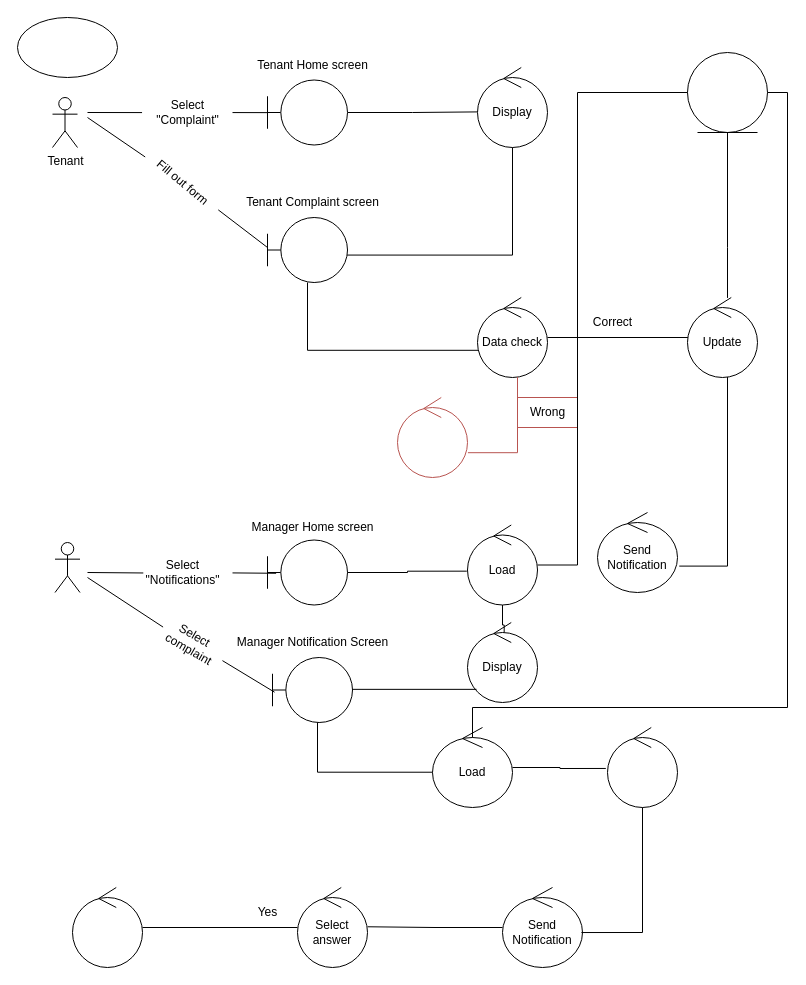
This 806x985 diagram has some shape labels left out. Each missing label, with the centre of its shape:
"Complaint" goes at point (67, 47).
"Complaint List" goes at point (727, 92).
"Display complaint details" goes at point (642, 767).
"Display response form" goes at point (107, 927).
"Error message" goes at point (432, 437).
"Manager" goes at point (67, 567).
